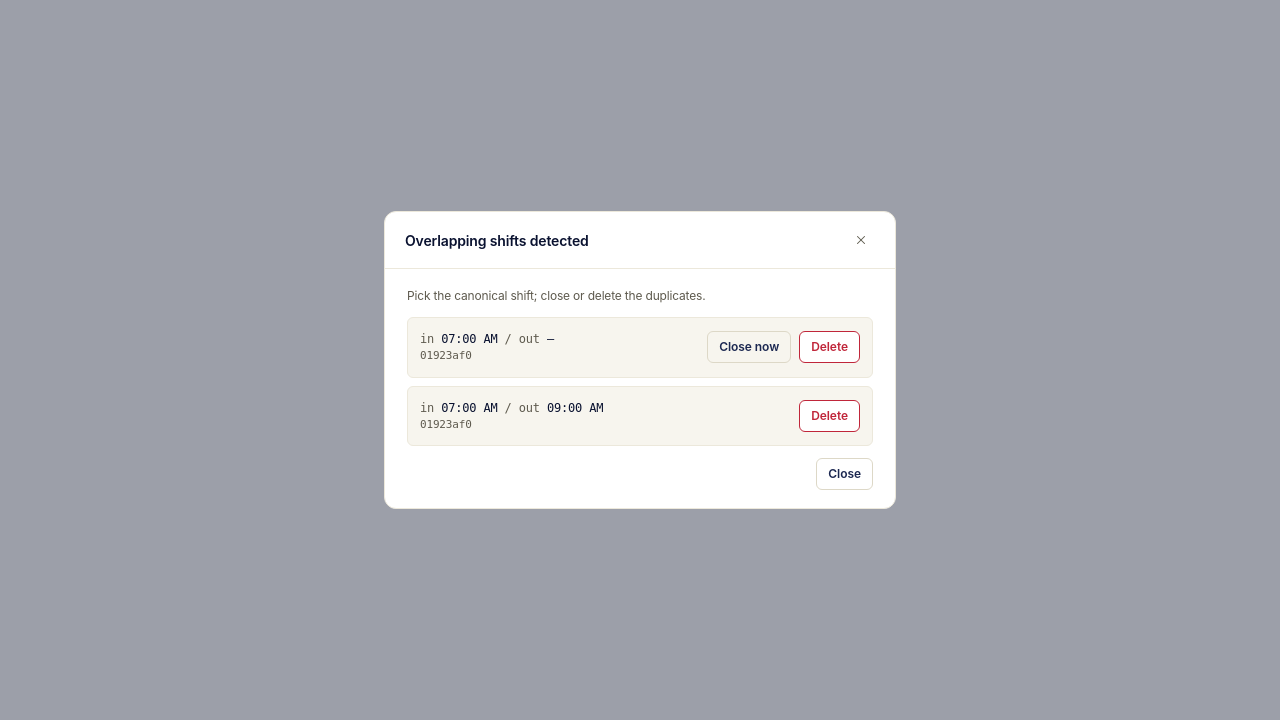
Scenario: Phase-09 §8 component-render: ResolveOverlappingShifts (dir=ltr) › all Delete buttons disable while ANY soft_delete is pending
The width and height of the screenshot is (1280, 720).
Expected: the number of list items is 2, [407,317,873,378]; [407,386,873,446]
Click the 1st button "Delete" at [830, 347], box [799,331,860,363]
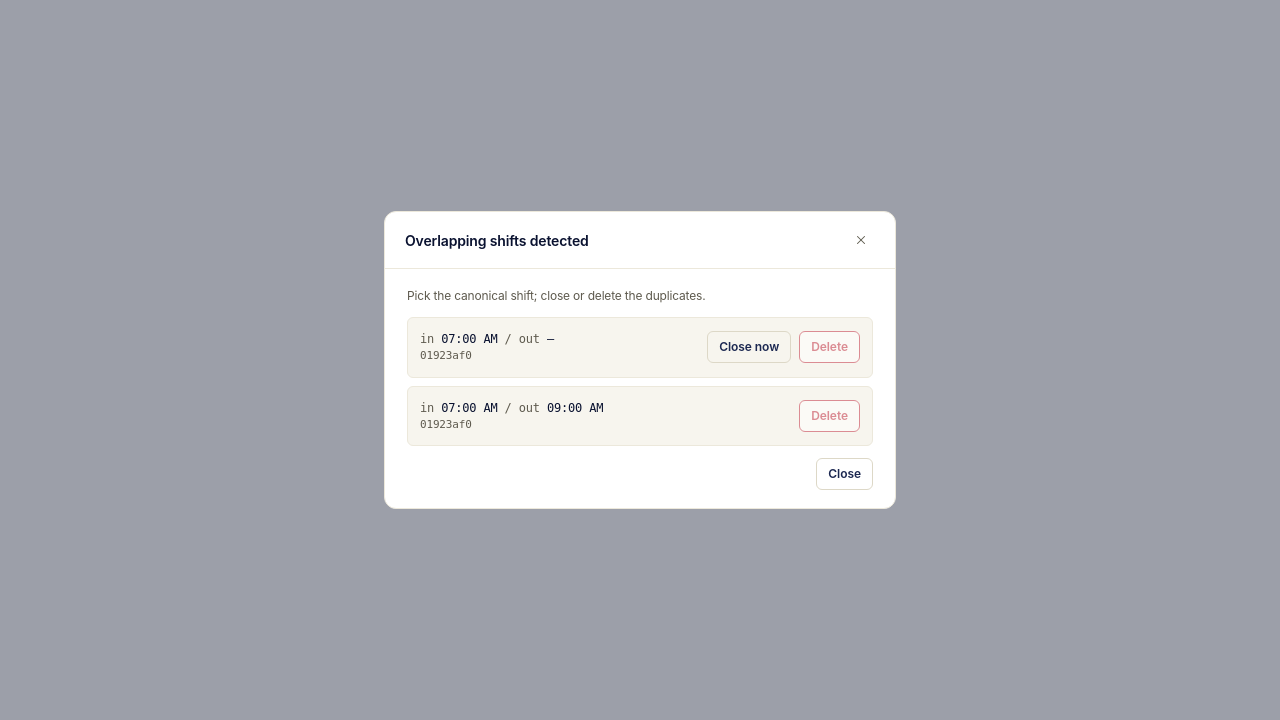
Expected: the 1st button "Delete" is disabled, [799,331,860,363]
Expected: the button "Delete" in the row of "09:00 AM" is disabled, [799,400,860,432]
